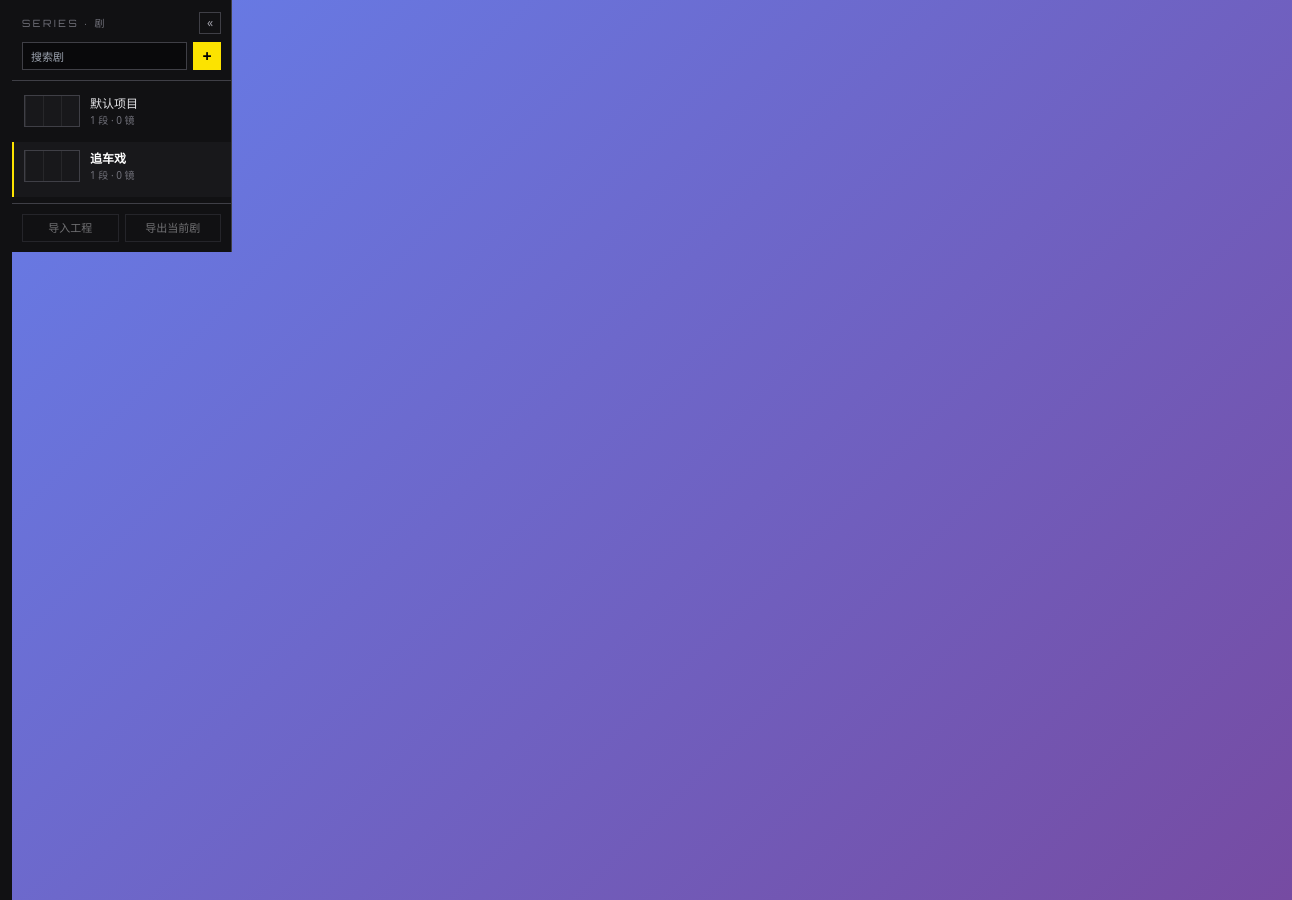
Test: ProjectRail › 搜索框按剧名过滤
In the field labelled "搜索剧": (104, 56) top-left (22, 42), bottom-right (187, 70), type "追车"
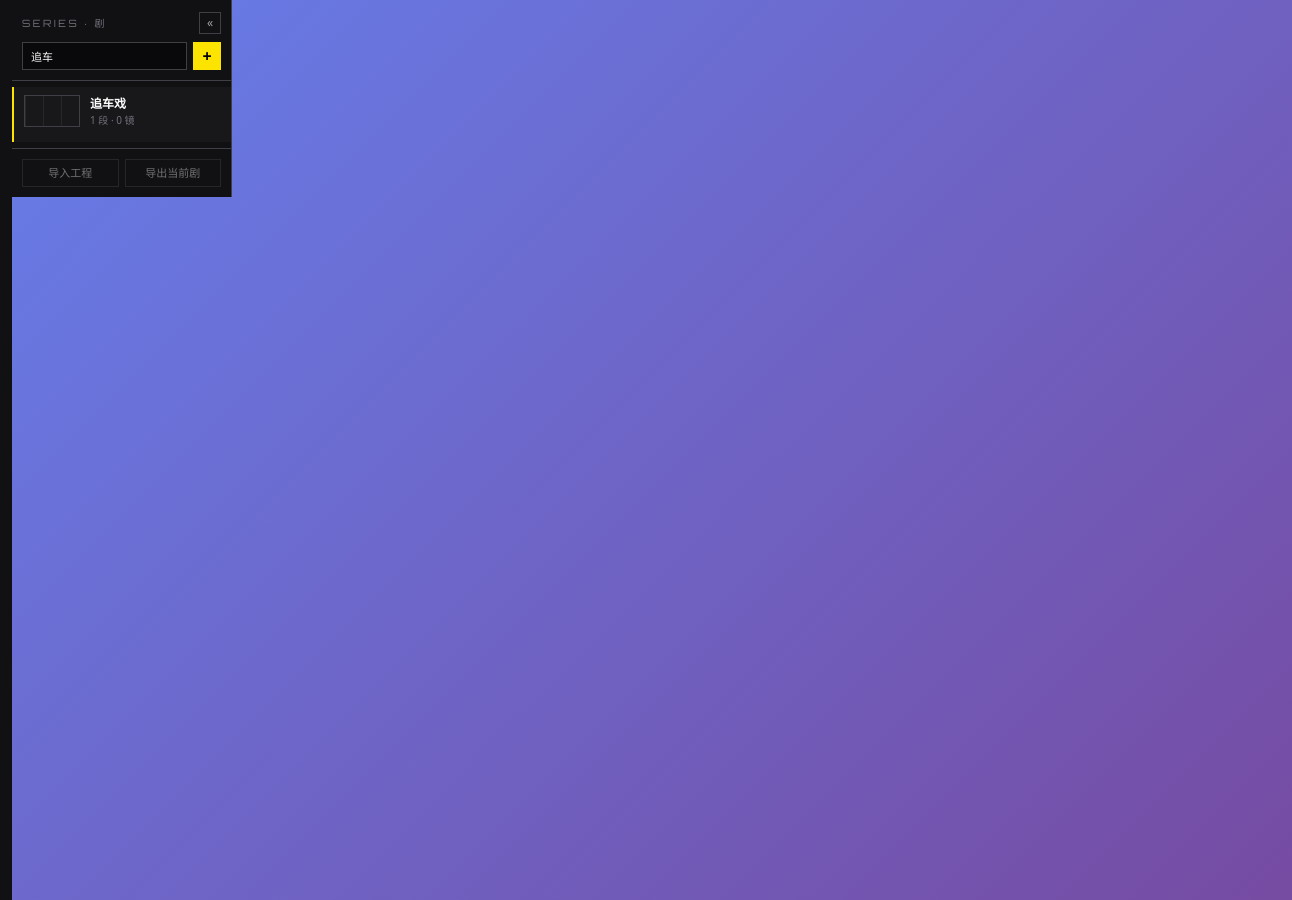
Result: the number of buttons named "切换到剧" is 1 at top-left (14, 87), bottom-right (231, 142)
